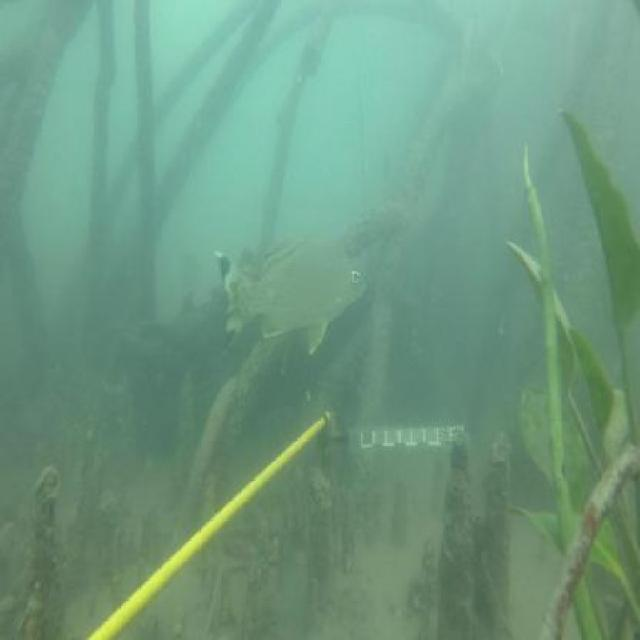Amniataba_caudivittatus: (211, 234, 371, 366)
